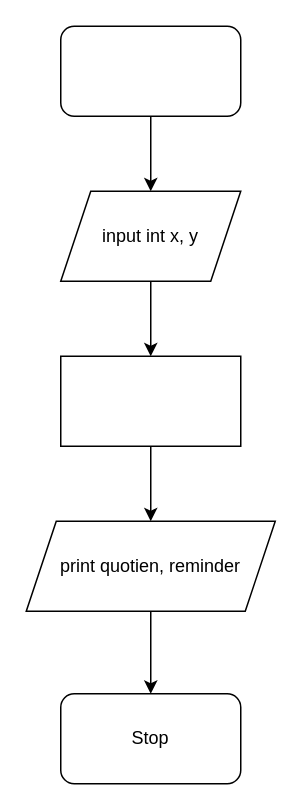
The diagram is 302 pixels wide and 810 high, and some of its shapes have lost their labels. The shapes that lost their labels are listed below. From the top down, each one's centre as x and y in pixels, then its label:
At point (150, 70): "Start".
At point (150, 400): "quotient = x // y reminder = x % y".
